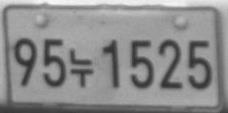1: (98, 38, 126, 89)
2: (157, 38, 183, 88)
5: (129, 39, 155, 90), (187, 40, 213, 89), (41, 37, 66, 87)
9: (12, 36, 38, 87)
누: (68, 47, 94, 88)
